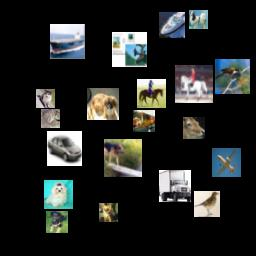airplane: (212, 148, 241, 177), (133, 110, 155, 132)
automobile: (47, 131, 82, 166)
bird: (215, 59, 250, 94), (194, 191, 220, 217)
cat: (36, 89, 55, 108)
deer: (112, 32, 147, 67), (183, 117, 205, 139)
dog: (104, 139, 142, 177), (87, 88, 119, 120), (44, 180, 73, 209), (46, 211, 68, 233), (99, 203, 118, 222), (189, 10, 208, 29)
frog: (41, 109, 60, 128)
ship: (50, 24, 85, 59), (159, 12, 185, 38)
truck: (159, 170, 191, 202)
